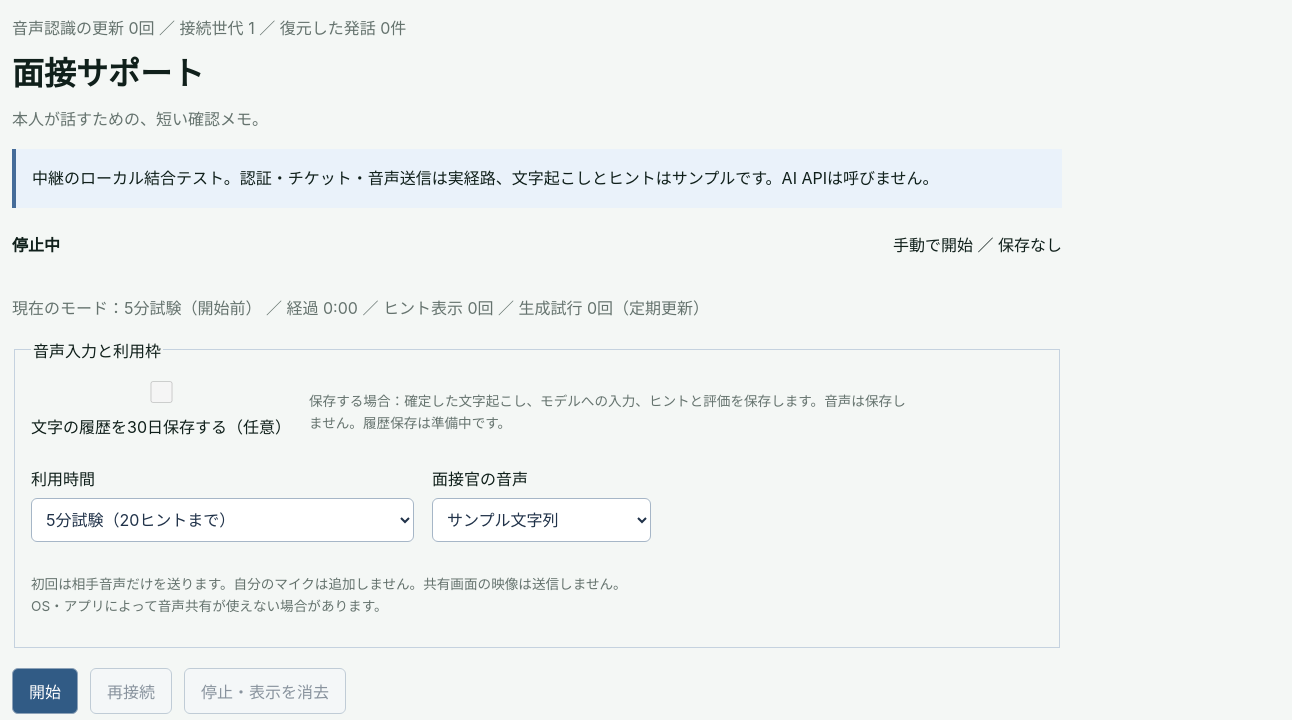
Test: relay panel › does not acquire audio or request a ticket until clicked; repeated clicks issue one ticket
Step 1. Click the button "開始" → (45, 691), box [12,668,78,714]
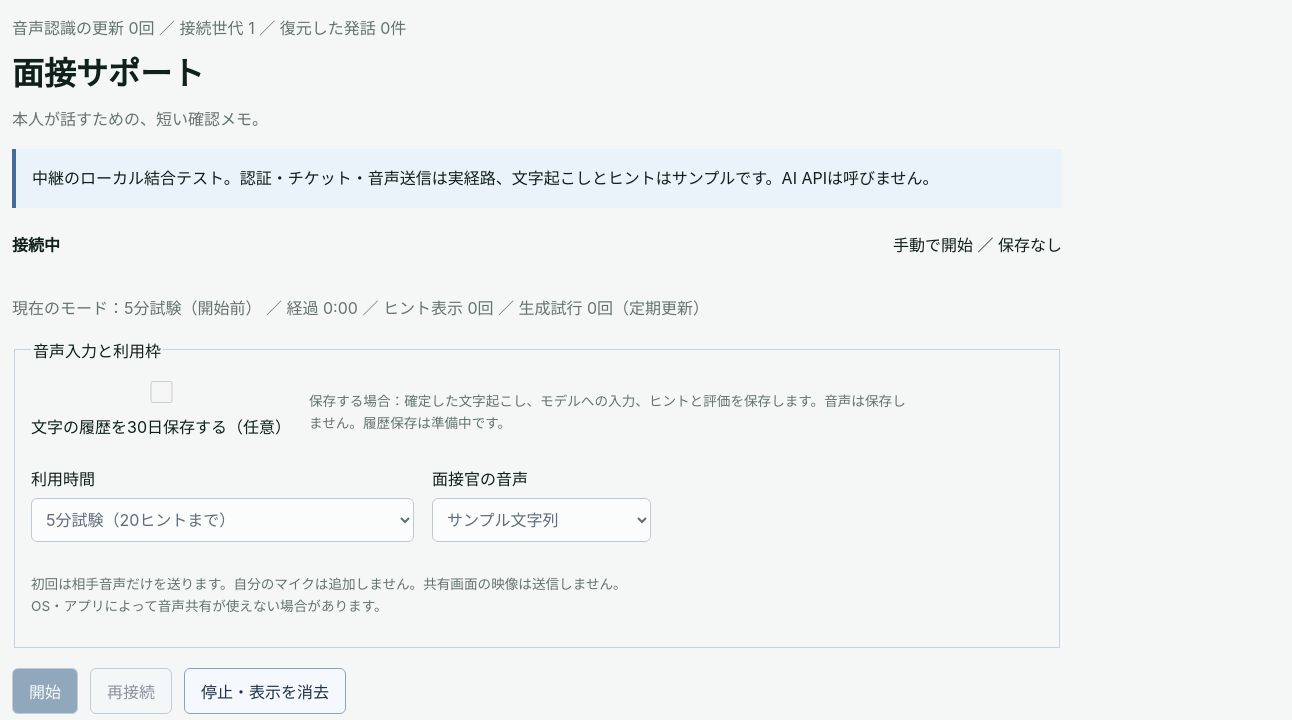
Step 2. Click the button "開始" → (45, 691), box [12,668,78,714]
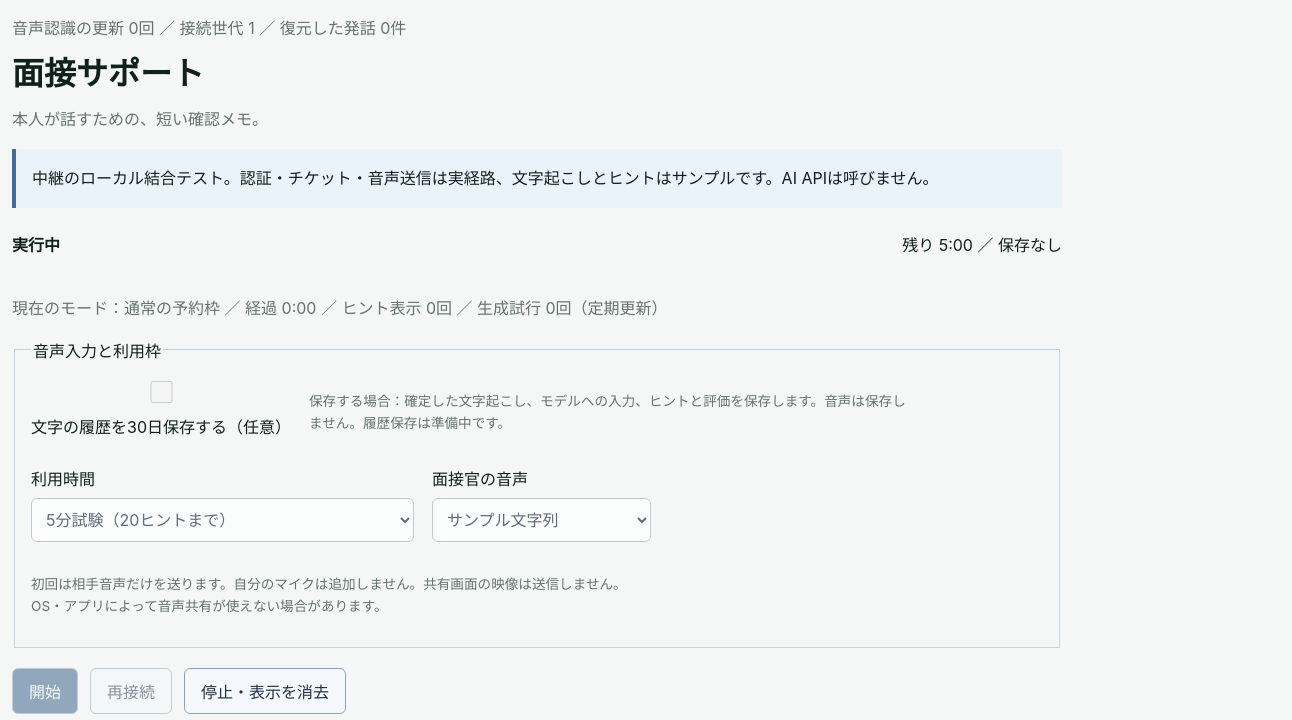
Check: the text "実行中" is shown, box [12,232,60,256]
